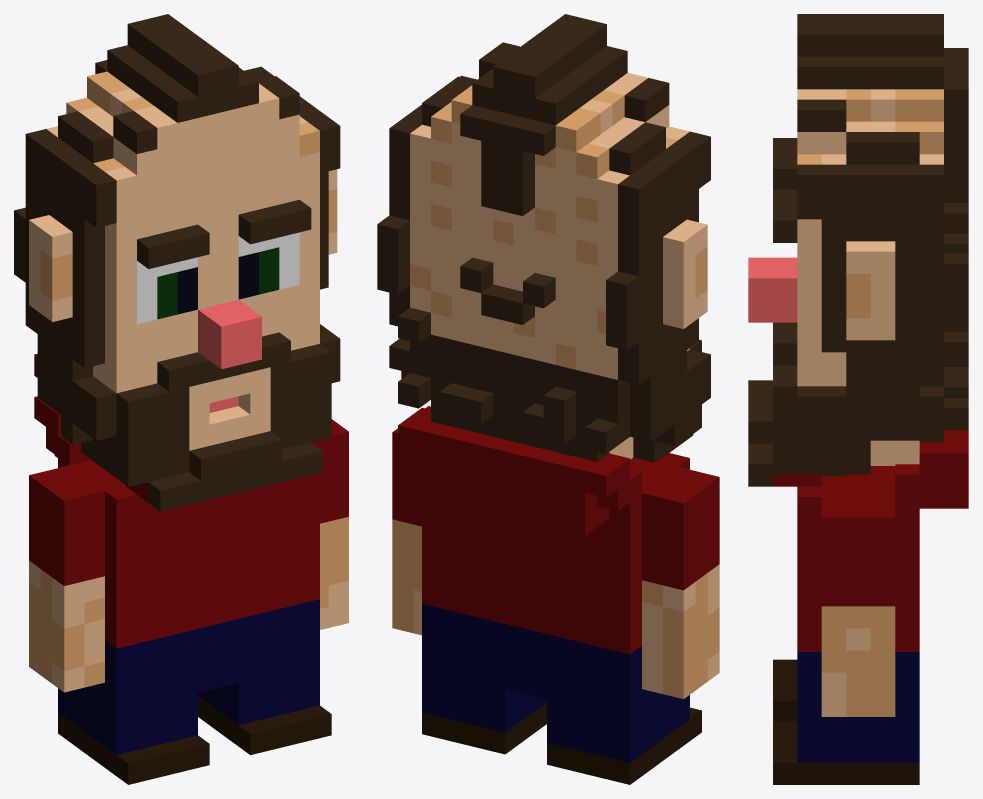
Rendered from Boss_Boss_Bahamon_fase_1.obj.
The picture shows the model from 3 angles, left to right: view 1: azimuth 30°, elevation 25°; view 2: azimuth 150°, elevation 25°; view 3: azimuth 270°, elevation 25°; orthographic projection. The views are drawn at different scales.
Parts seen in each view (by area): view 1: Boss_Boss_Bahamon_fase_1; view 2: Boss_Boss_Bahamon_fase_1; view 3: Boss_Boss_Bahamon_fase_1.
Part boxes in pixels (x1=…): Boss_Boss_Bahamon_fase_1: x1=14, y1=14, x2=348, y2=784; Boss_Boss_Bahamon_fase_1: x1=377, y1=14, x2=719, y2=784; Boss_Boss_Bahamon_fase_1: x1=748, y1=14, x2=968, y2=784.
Size of the model in its own units: 14 by 32 by 9.
Materials: 1 (1 with a texture image).
